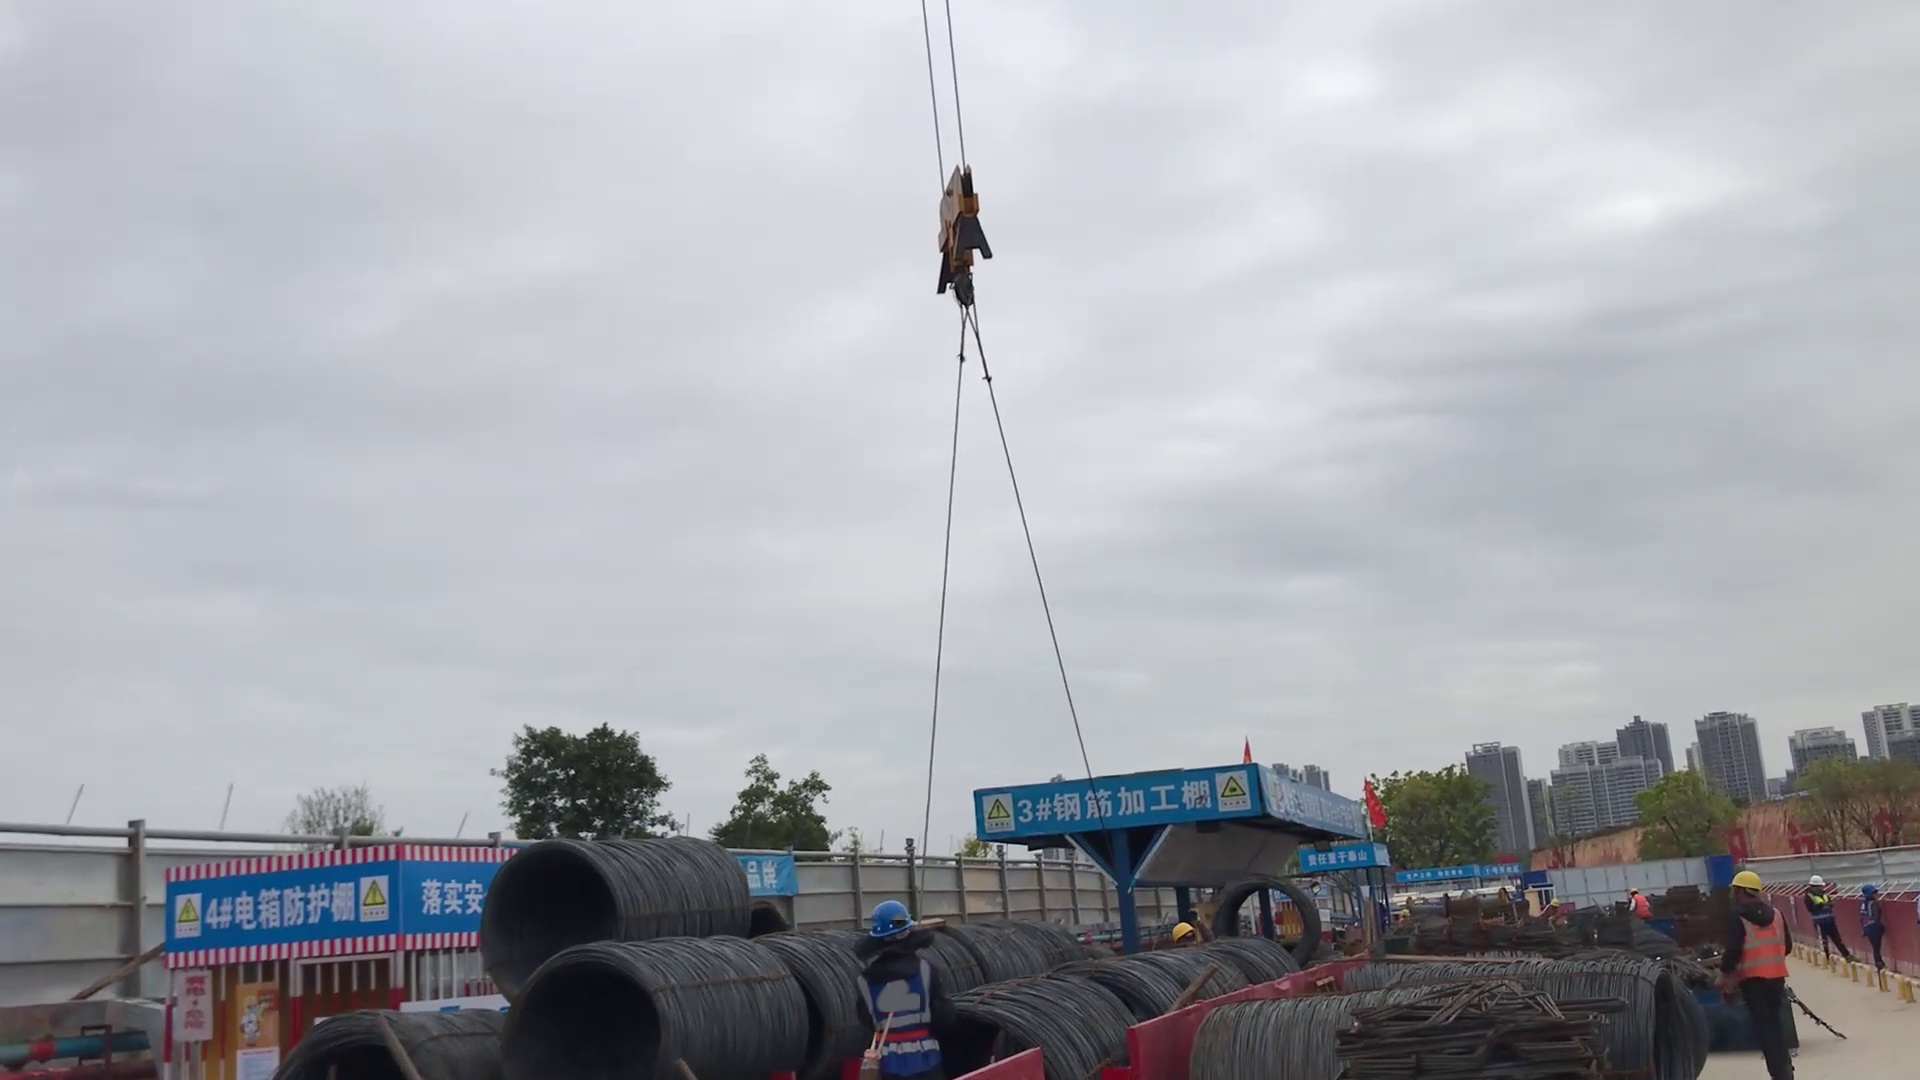fence: (1793, 869, 1920, 982)
helmet: (862, 901, 913, 942), (1169, 922, 1197, 943), (1730, 872, 1764, 889), (1808, 874, 1826, 887), (1862, 882, 1880, 896), (1630, 888, 1639, 897), (1551, 899, 1560, 907), (1402, 908, 1410, 916)
hook: (926, 176, 986, 291)
person: (849, 895, 952, 1079), (1717, 856, 1795, 1080), (1854, 878, 1892, 975), (1808, 863, 1828, 968), (1170, 918, 1203, 945), (1627, 888, 1653, 919), (1543, 897, 1568, 917), (1400, 906, 1411, 925)
slogan: (113, 851, 406, 934), (974, 789, 1258, 829), (1261, 772, 1398, 817), (728, 846, 813, 896), (433, 882, 503, 929), (1299, 839, 1379, 856)
vest: (863, 960, 929, 1076), (1735, 904, 1790, 974), (1863, 899, 1882, 932), (1813, 891, 1828, 927), (1631, 893, 1648, 921), (1545, 904, 1565, 917)
